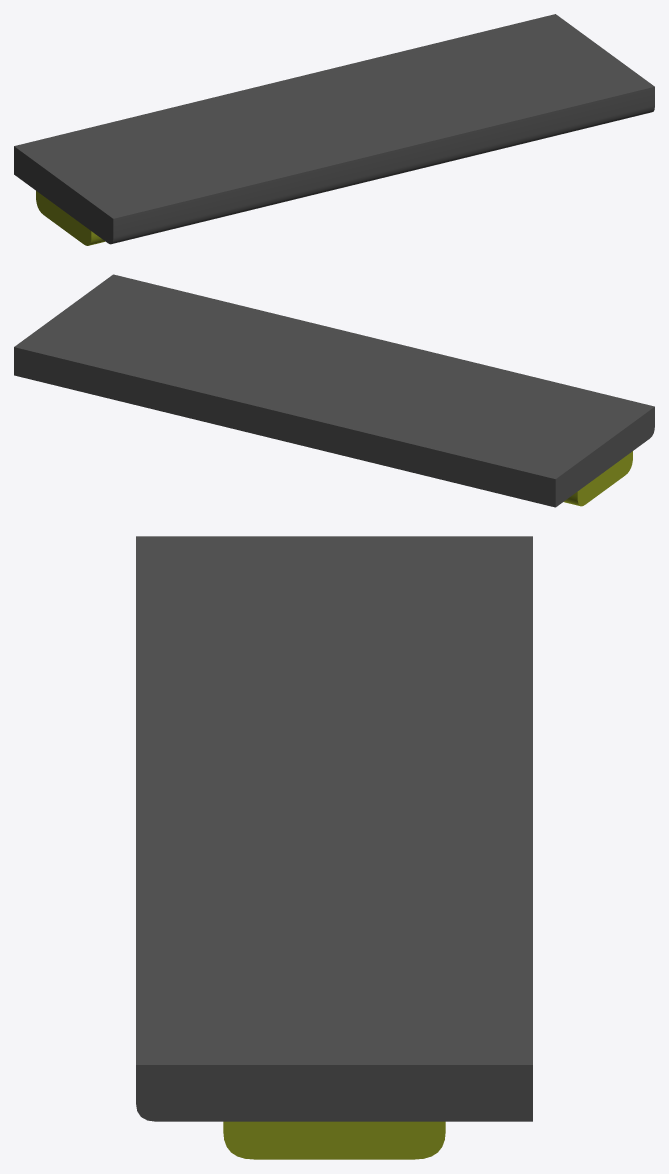
The model's file is TechoLuces.fbx.
3 renders of one model, top to bottom at view 1: azimuth 30°, elevation 25°; view 2: azimuth 150°, elevation 25°; view 3: azimuth 270°, elevation 25°, orthographic. The views are drawn at different scales.
Parts seen in each view (by area): view 1: Techo; view 2: Techo; view 3: Techo.
Boxes of the visible parts, <box> form: Techo: <box>14,14,654,245</box>; Techo: <box>14,274,654,507</box>; Techo: <box>136,536,532,1159</box>.
Size of the model in its own units: 6 by 0.5 by 1.91.
